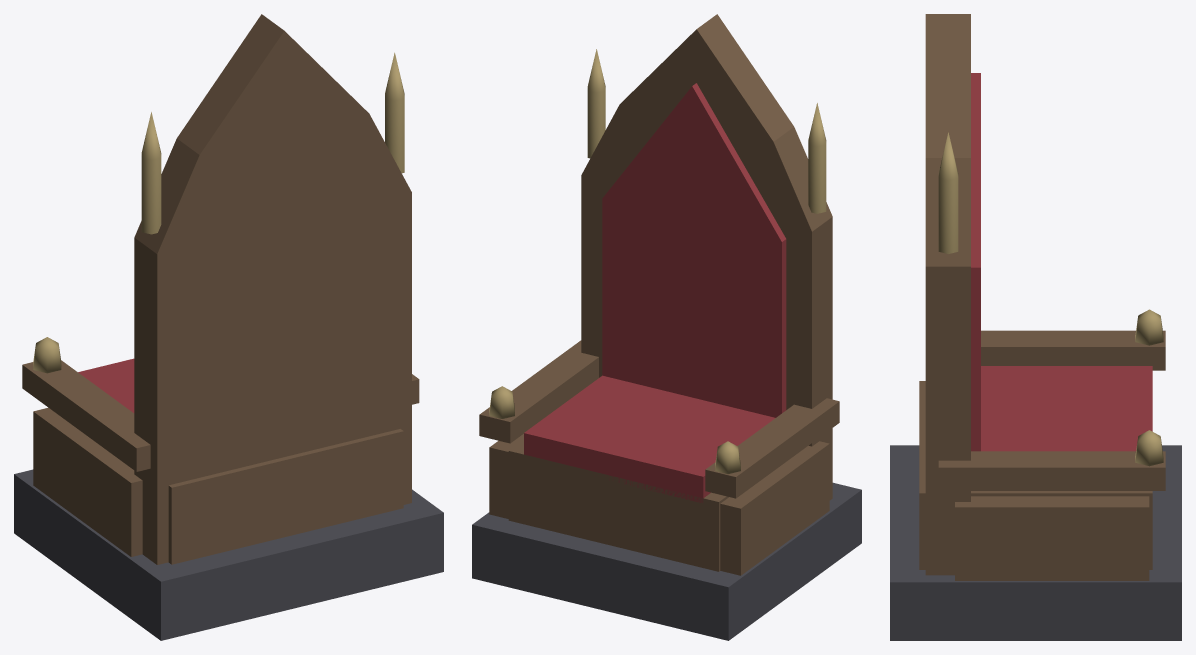
File: Throne.fbx
3 views of the same model, side by side, from view 1: azimuth 30°, elevation 25°; view 2: azimuth 150°, elevation 25°; view 3: azimuth 270°, elevation 25° (orthographic). The views are drawn at different scales.
Parts seen in each view (by area): view 1: Throne; view 2: Throne; view 3: Throne.
Boxes of the visible parts, x1=… form: Throne: x1=14, y1=14, x2=443, y2=640; Throne: x1=472, y1=14, x2=861, y2=640; Throne: x1=890, y1=14, x2=1181, y2=640.
Bounding box in the file's own units: 1 × 1.9 × 0.9.
